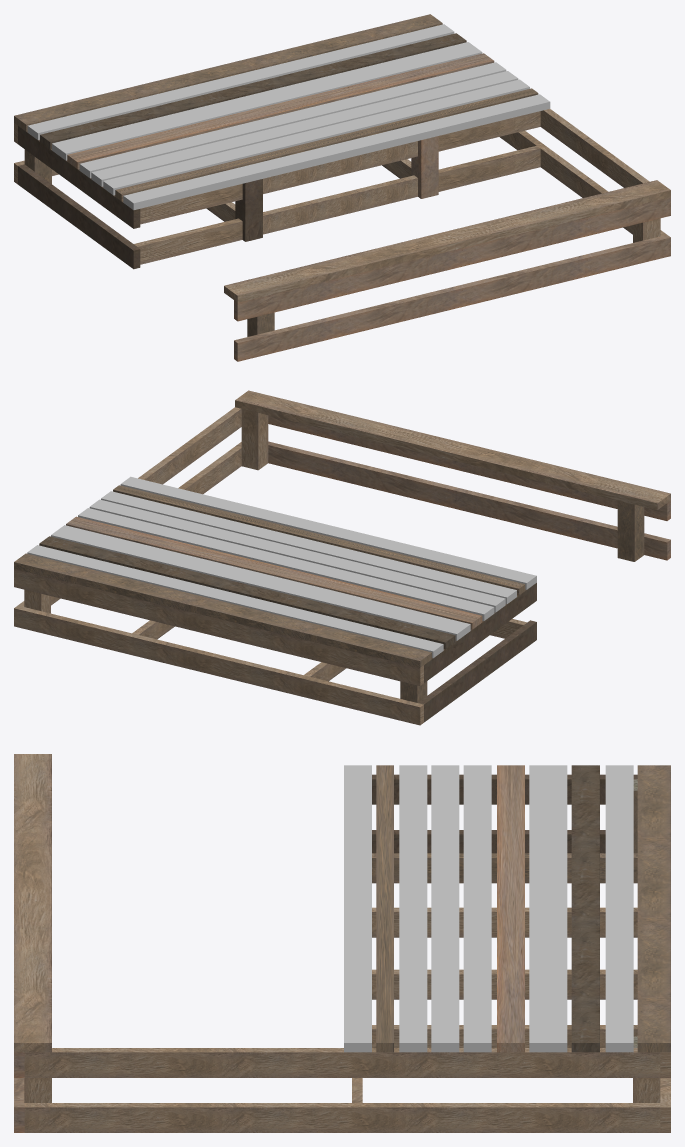
File: WoodFloorPeiceF.fbx
3 renders of one model, top to bottom at view 1: azimuth 30°, elevation 25°; view 2: azimuth 150°, elevation 25°; view 3: azimuth 270°, elevation 25°, orthographic. The views are drawn at different scales.
Parts seen in each view (by area): view 1: WoodFloorPeiceF; view 2: WoodFloorPeiceF; view 3: WoodFloorPeiceF.
Boxes of the visible parts, <box> form: WoodFloorPeiceF: <box>14,14,670,361</box>; WoodFloorPeiceF: <box>14,390,670,725</box>; WoodFloorPeiceF: <box>14,754,670,1132</box>.
Size of the model in its own units: 389 by 56.6 by 374.
